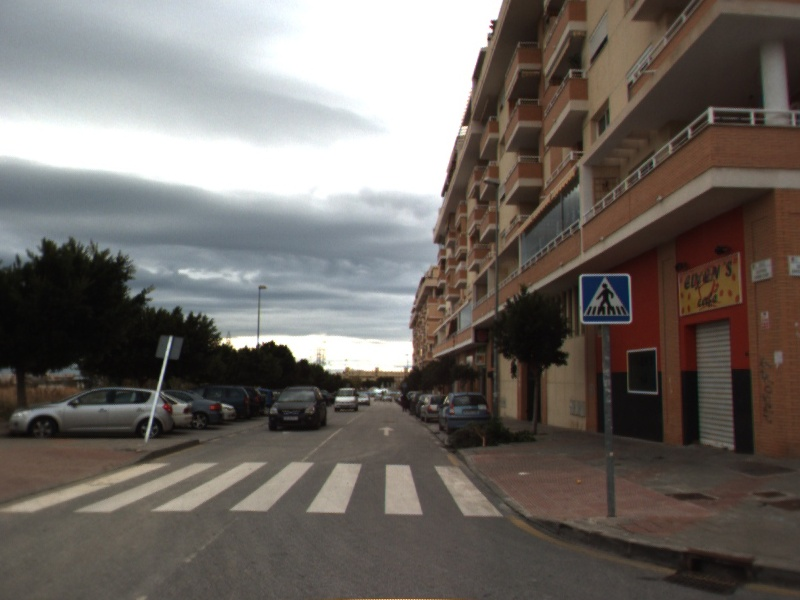STRAIGHT: (377, 424, 396, 437)
